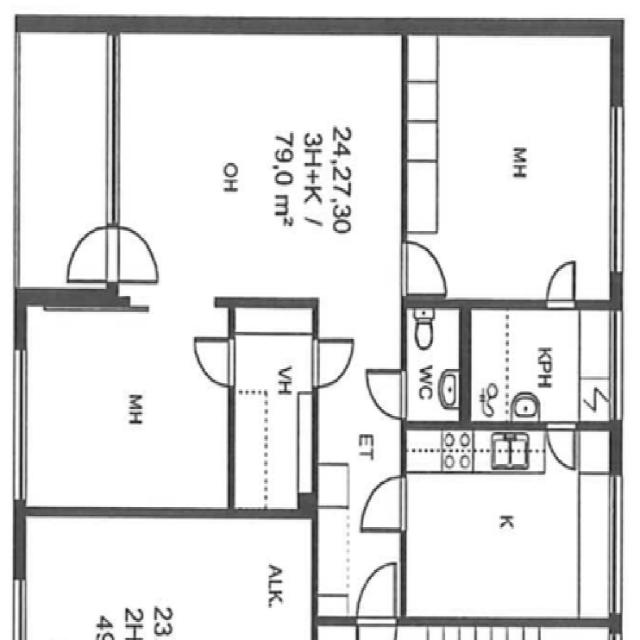door: (351, 555, 402, 638), (60, 220, 116, 282), (358, 470, 409, 536), (396, 232, 447, 297), (113, 221, 163, 285), (305, 333, 356, 391), (364, 364, 410, 422), (191, 335, 238, 389), (542, 254, 582, 312), (545, 421, 579, 472)
window: (98, 32, 131, 231), (5, 338, 36, 508), (601, 101, 629, 284), (603, 464, 626, 628), (605, 304, 624, 424), (8, 570, 31, 640)
zone: (121, 28, 411, 304), (402, 28, 624, 308), (19, 300, 236, 516), (398, 426, 614, 626), (9, 512, 314, 640), (14, 19, 114, 295), (464, 303, 618, 424), (232, 301, 316, 511), (402, 301, 466, 427), (402, 427, 474, 473)
